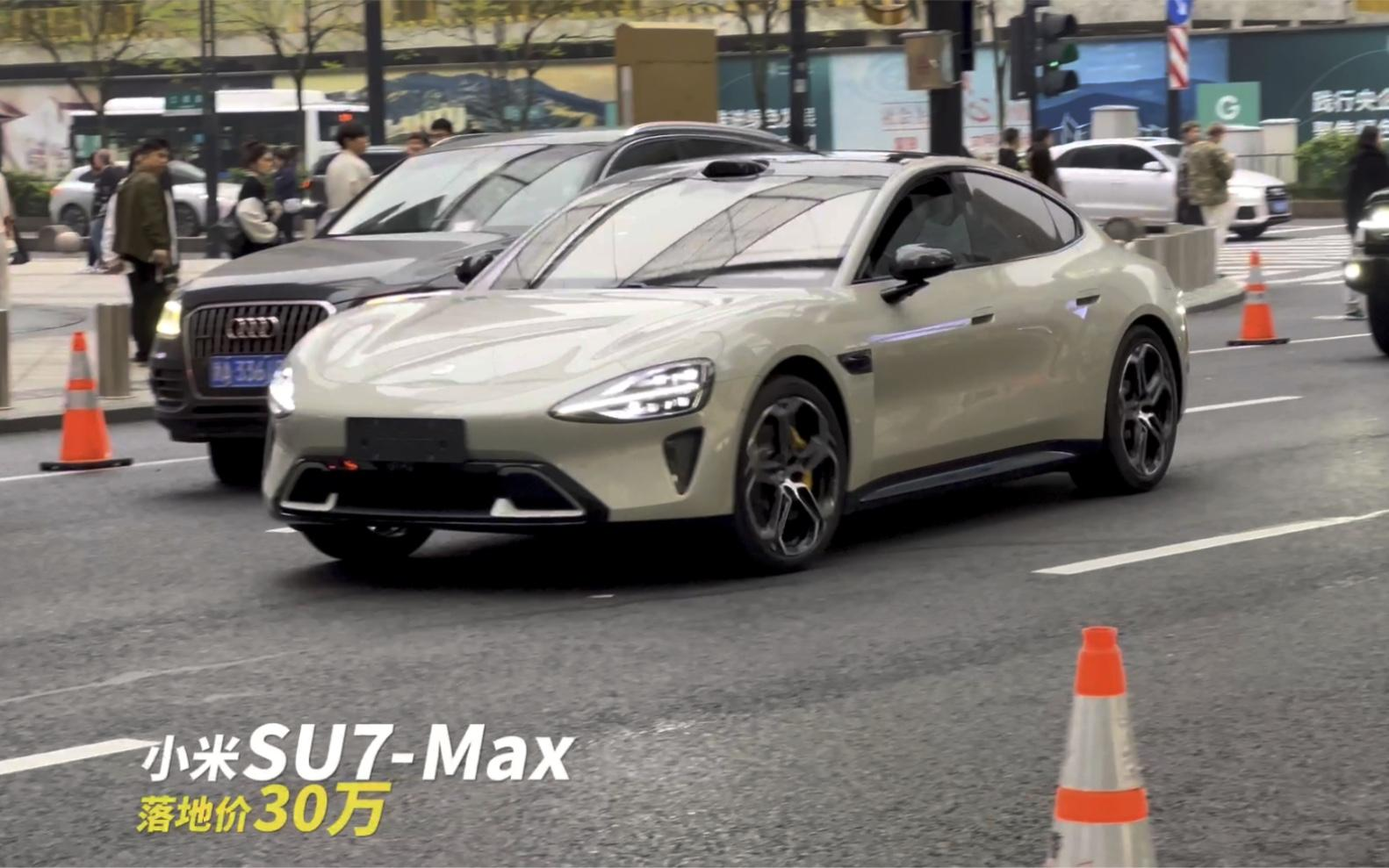other: (133, 124, 554, 495)
su7: (261, 147, 1190, 571)
